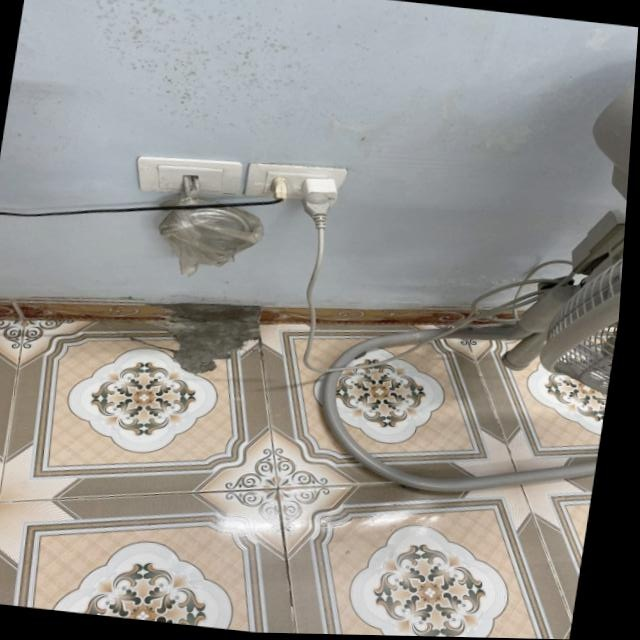outlet: (132, 150, 247, 201), (244, 156, 350, 207)
